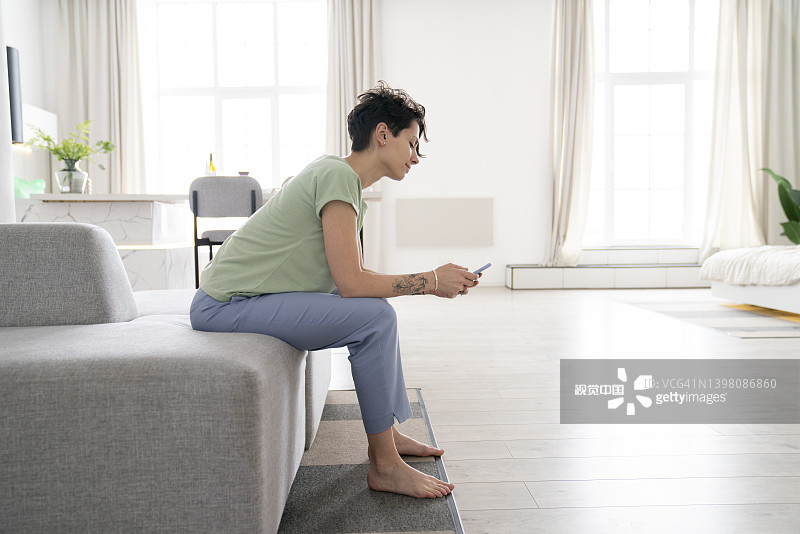reading: (422, 246, 503, 309)
